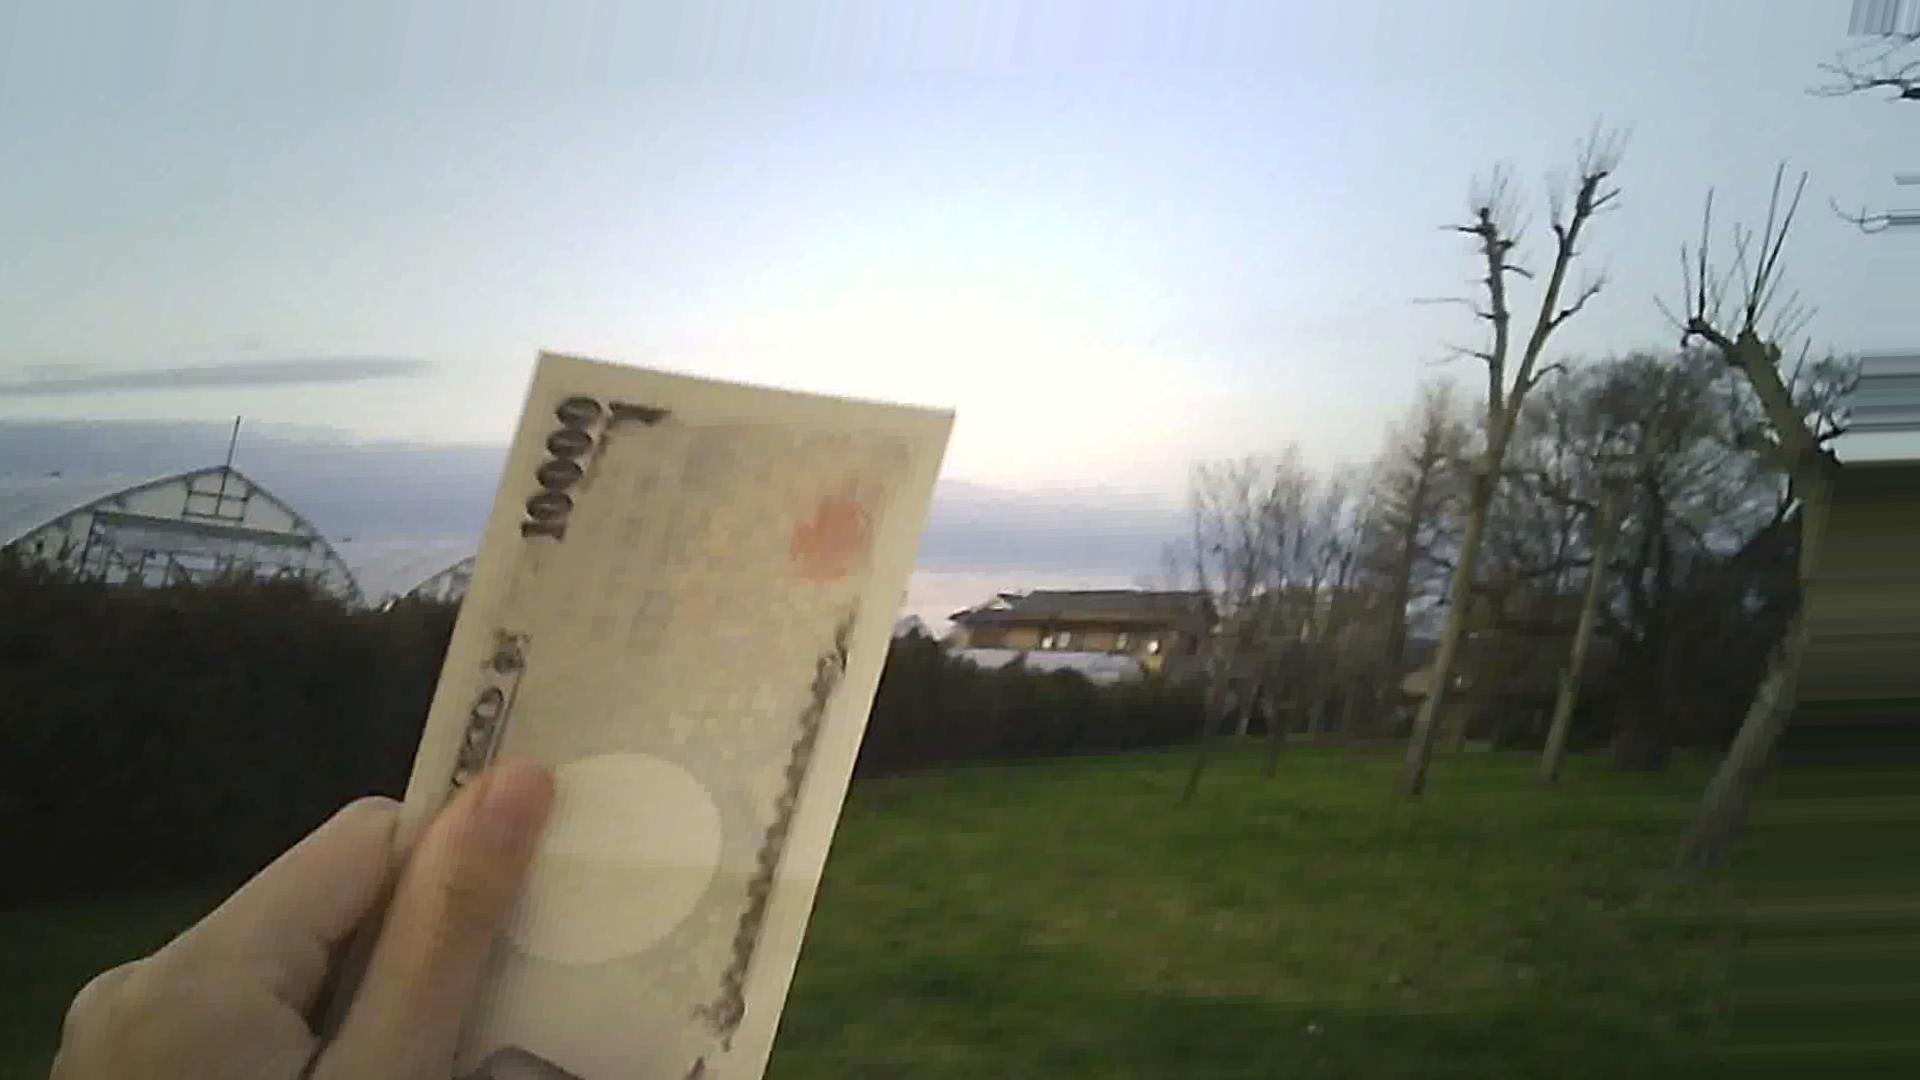10,000 Yen: (369, 349, 955, 1079)
